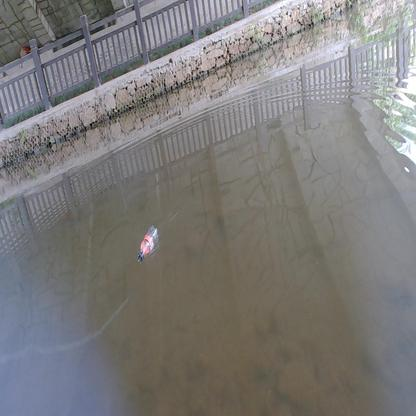plastic bottle: (137, 224, 159, 261)
